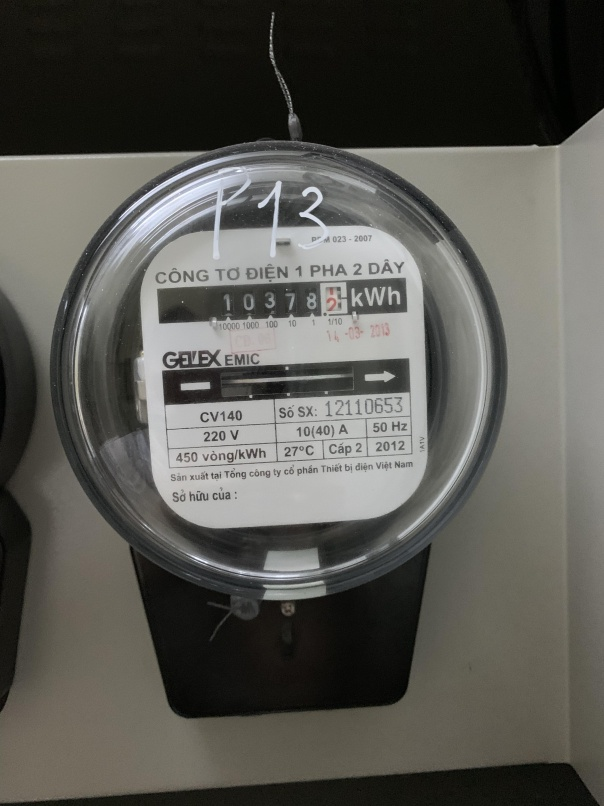counter: (154, 280, 411, 320)
electricity_meter: (54, 141, 512, 600)
